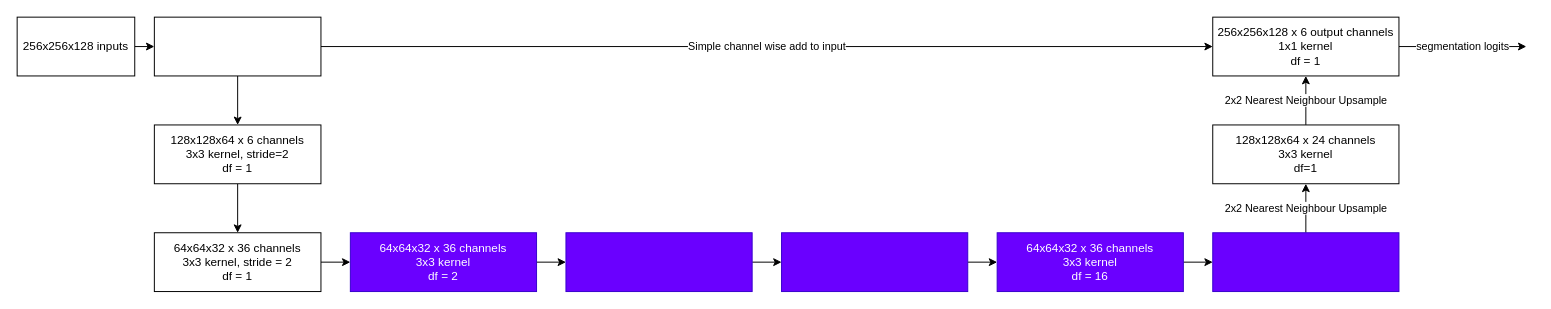
Some shapes in this 1551 by 309 pixel diagram are drawn without their labels. Each missing label, with the centre of its shape:
256x256x128 x 3 channels 3x3 kernel df = 1: (237,46)
64x64x32 x 36 channels 3x3 kernel df = 4: (658,262)
64x64x32 x 36 channels 3x3 kernel df = 8: (874,262)
64x64x32 x 48 channels 3x3 kernel df = 1: (1305,262)
